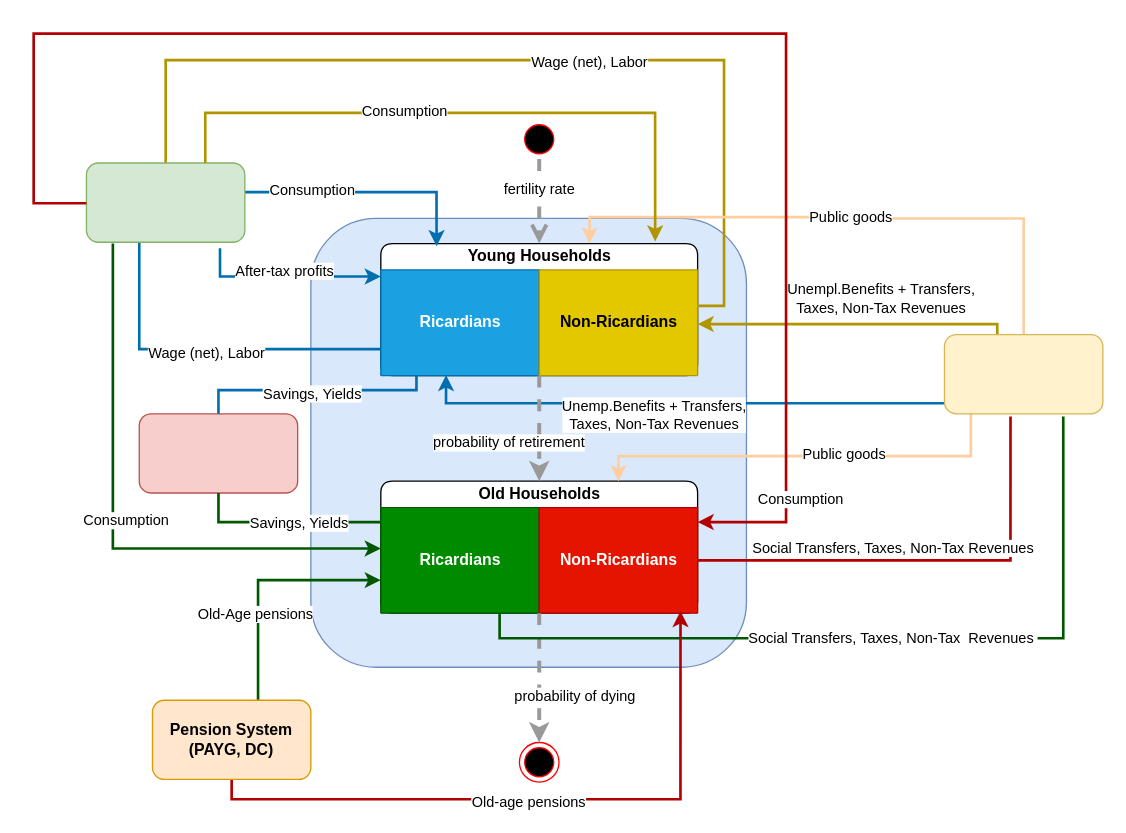
The diagram is 1126 pixels wide and 833 high, and some of its shapes have lost their labels. Each missing label, with the centre of its shape:
Financial Markets / Banks: point (218, 452)
Firms: point (165, 202)
Government: point (1023, 373)
